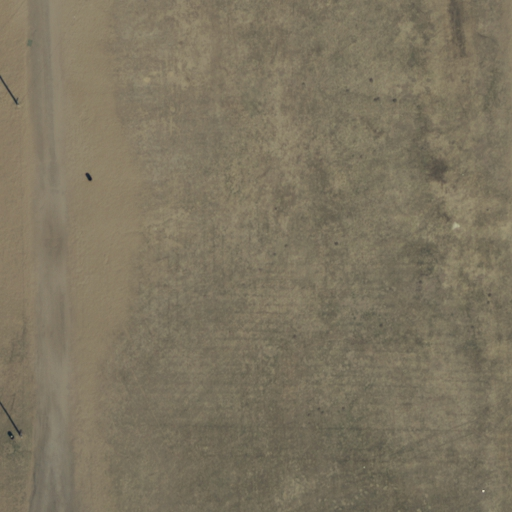DT: (6, 89, 31, 120), (8, 418, 32, 449)
